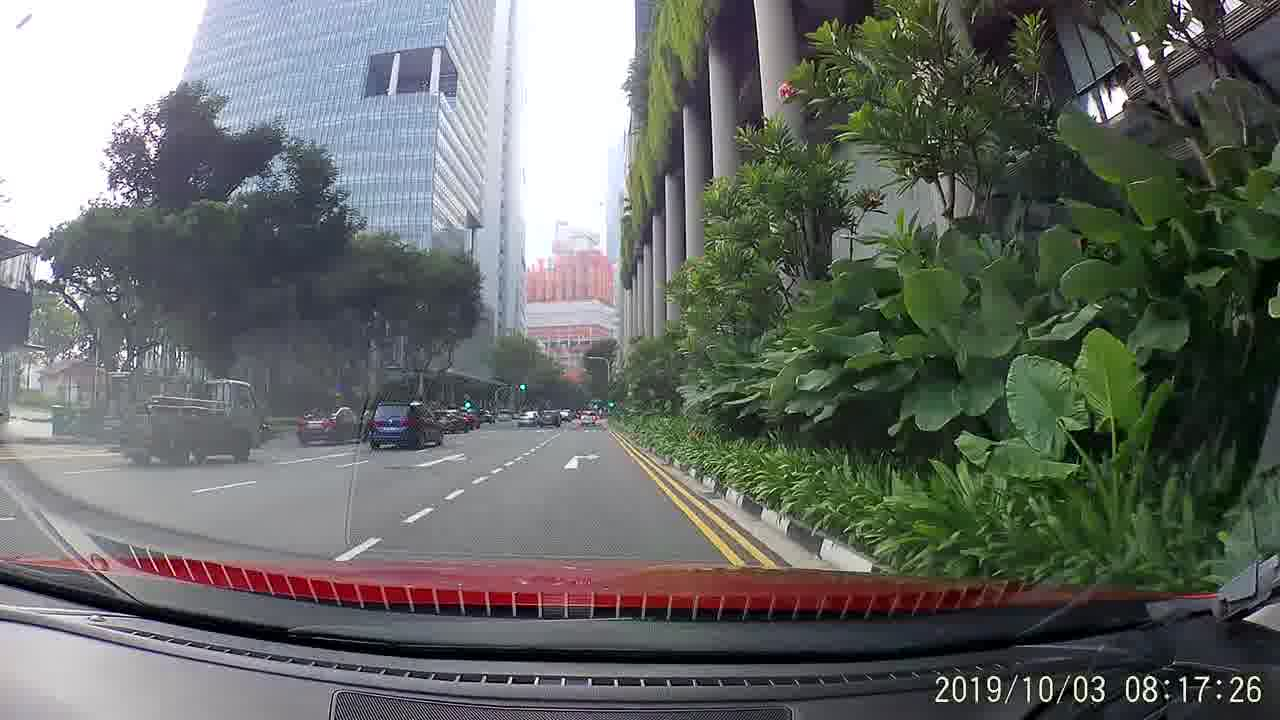car: (366, 398, 444, 449), (291, 405, 361, 448), (432, 411, 476, 436), (541, 409, 560, 429), (577, 411, 600, 427), (517, 409, 537, 427)
